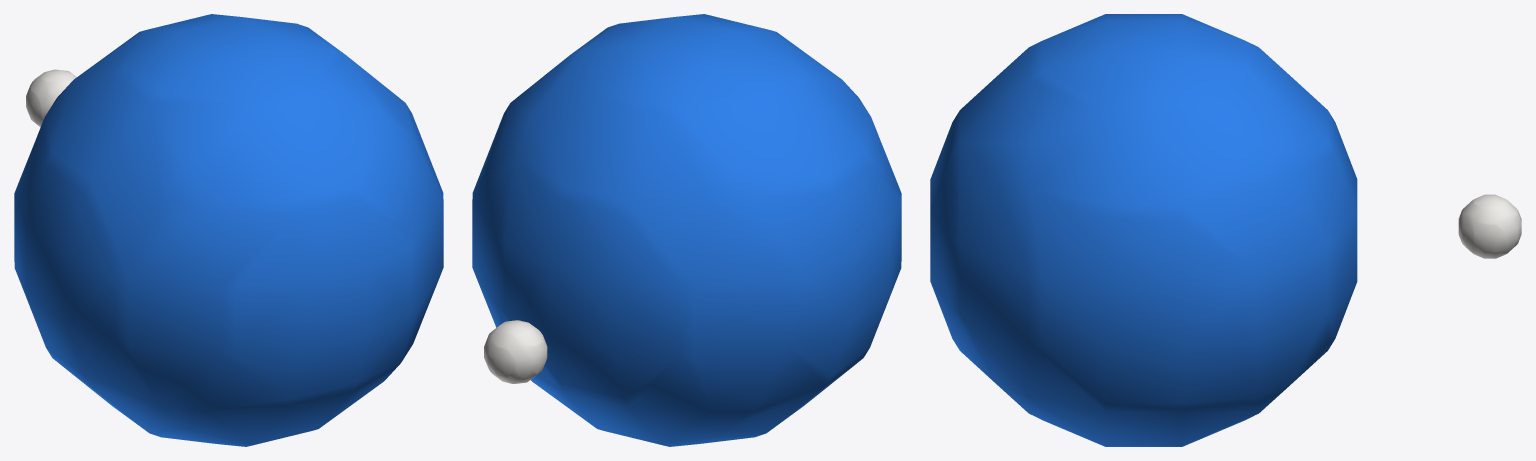
The model's file is Hydrogen.glb.
3 renders of one model, left to right at view 1: azimuth 30°, elevation 25°; view 2: azimuth 150°, elevation 25°; view 3: azimuth 270°, elevation 25°, orthographic.
Parts seen in each view (by area): view 1: Hydrogene.001, electron.001; view 2: Hydrogene.001, electron.001; view 3: Hydrogene.001, electron.001.
Part boxes in pixels (box(x1,y1,x2,y2)): Hydrogene.001: box(14, 14, 443, 446); electron.001: box(26, 69, 76, 127); Hydrogene.001: box(472, 14, 901, 446); electron.001: box(484, 320, 547, 383); Hydrogene.001: box(930, 14, 1357, 446); electron.001: box(1458, 194, 1521, 258).
Bounding box in the file's own units: 6.27 × 6.27 × 8.68.
